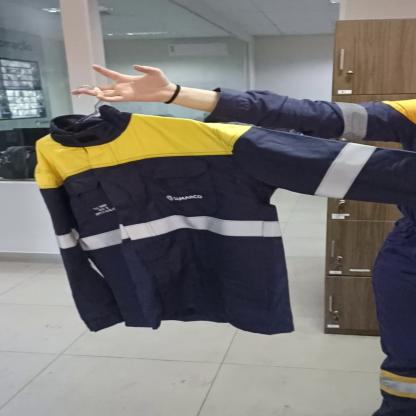C_eletrica: (35, 108, 416, 336)
